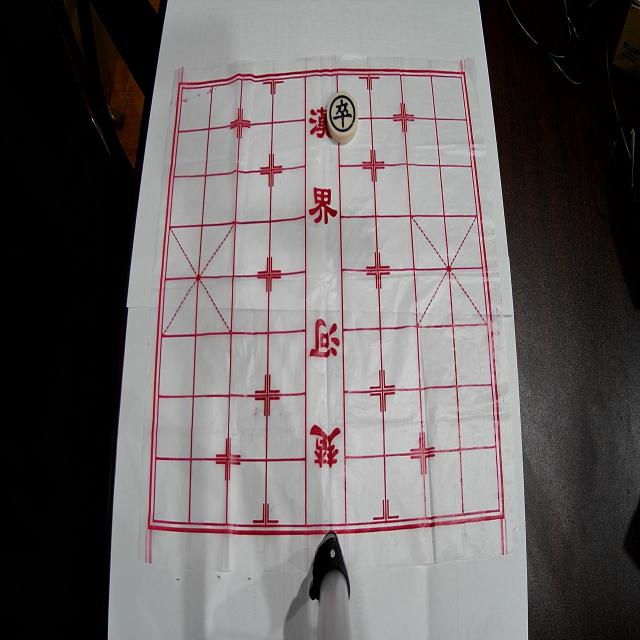black-soldier: (327, 92, 358, 142)
